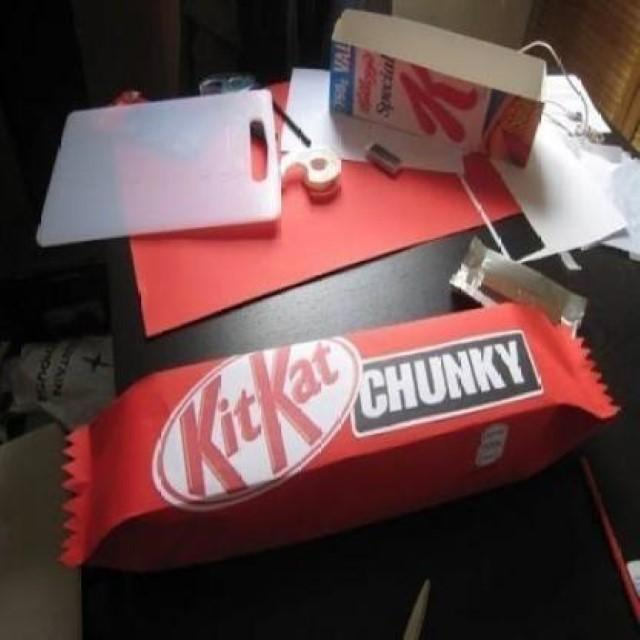kitkat_chocolate: (88, 302, 610, 516)
